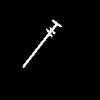treble_crochet: (23, 20, 61, 67)
